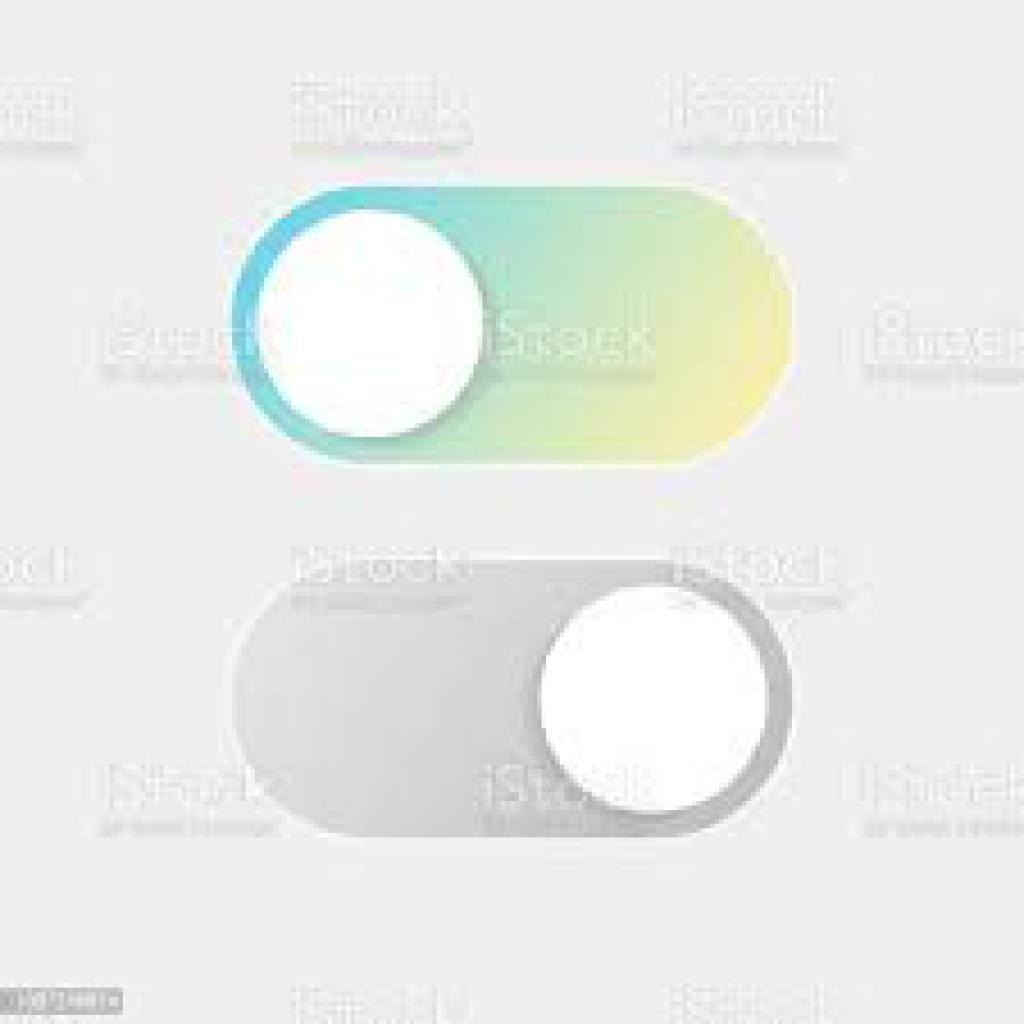switch: (232, 560, 797, 842), (231, 190, 797, 467)
